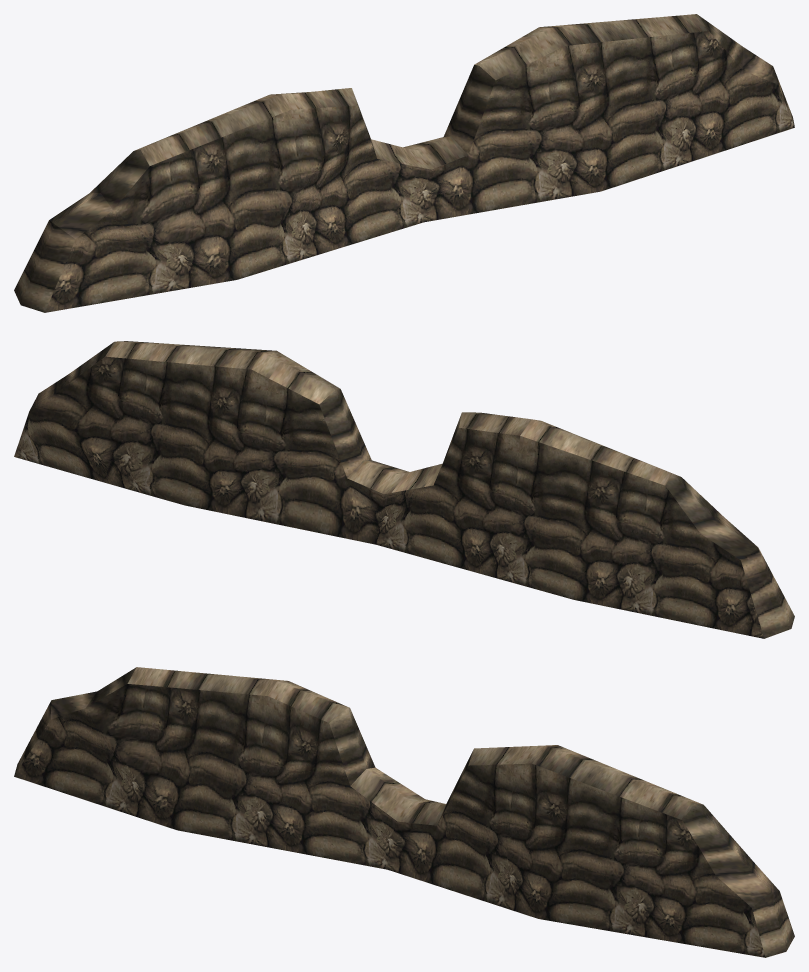
Rendered from Sndbag01.glb.
3 renders of one model, top to bottom at view 1: azimuth 30°, elevation 25°; view 2: azimuth 150°, elevation 25°; view 3: azimuth 330°, elevation 25°, orthographic.
Parts seen in each view (by area): view 1: _Sndbag01; view 2: _Sndbag01; view 3: _Sndbag01.
Boxes of the visible parts, bbox=[...] form: _Sndbag01: bbox=[14, 14, 794, 312]; _Sndbag01: bbox=[14, 341, 794, 638]; _Sndbag01: bbox=[14, 667, 794, 957].
Size of the model in its own units: 11.32 by 2.08 by 1.36.
Materials: 1 (1 with a texture image).
